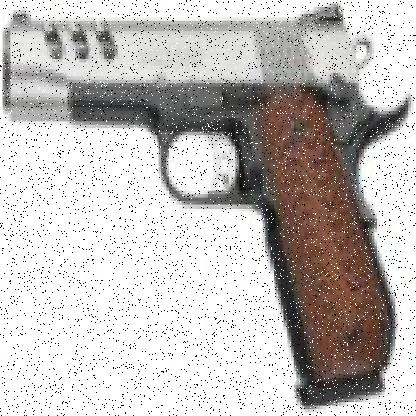pistol: (3, 7, 396, 392)
